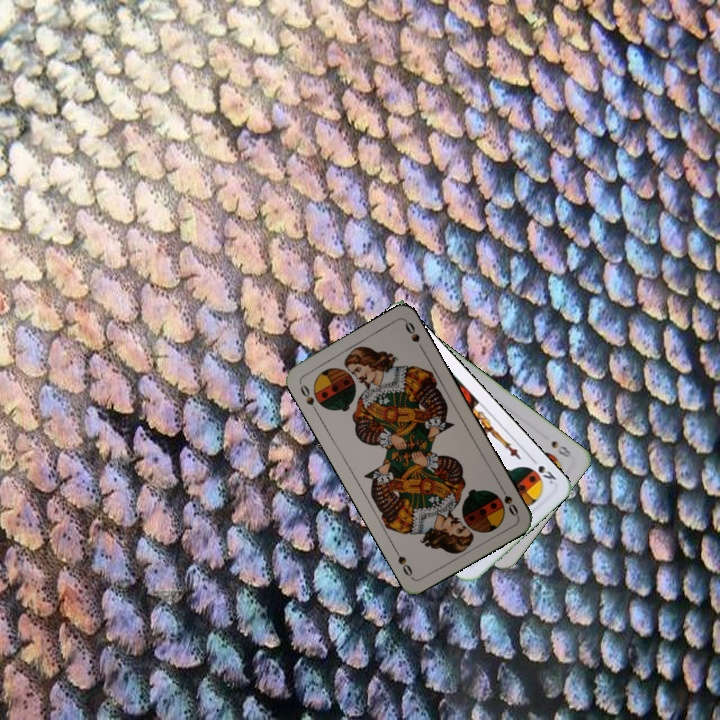S8: (547, 436, 574, 460)
SK: (527, 453, 559, 488)
SO: (495, 481, 521, 519), (295, 378, 321, 416)
